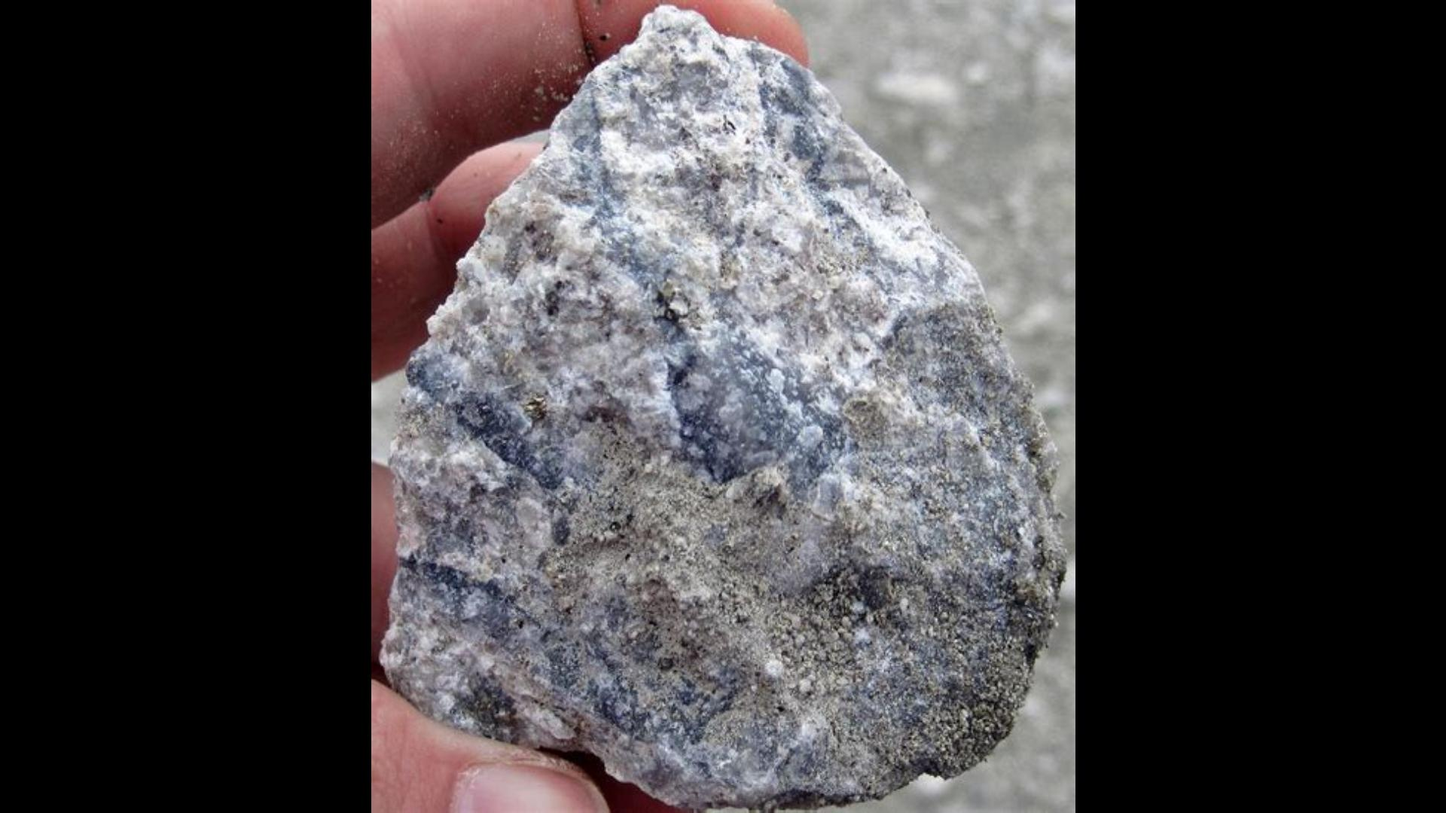rock: (382, 3, 1061, 810)
